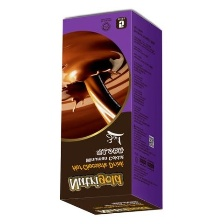carton: (56, 8, 171, 217)
